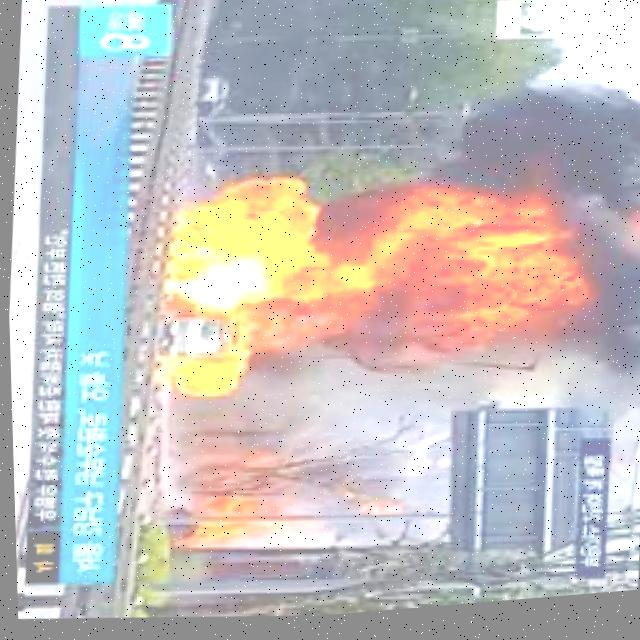Fire: (151, 152, 597, 401), (155, 329, 247, 409), (186, 521, 248, 551)
Smoke: (572, 89, 640, 394), (422, 77, 595, 196)
